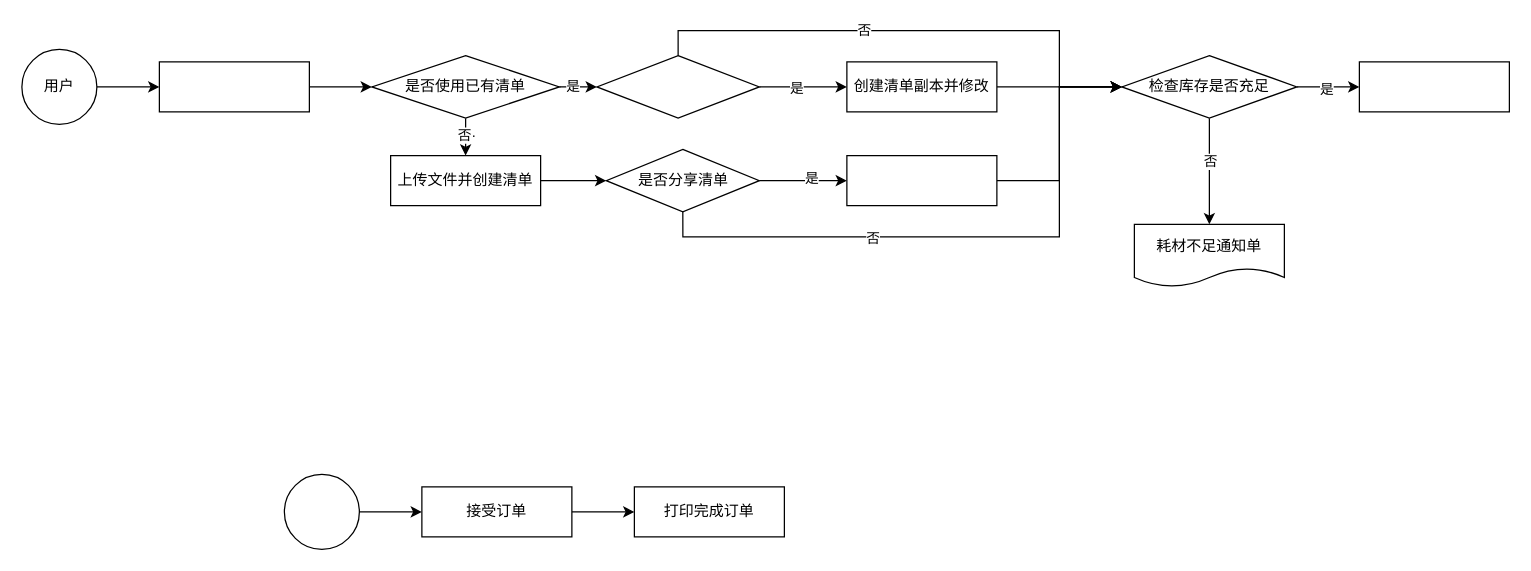
Some shapes in this 1531 by 571 pixel diagram are drawn without their labels. Here are the shapes that lost their labels. From the top down, the centre of each, then its label:
pixel 233 86: 查看分享清单列表
pixel 677 86: 是否修改需求
pixel 1433 86: 创建订单
pixel 921 180: 录入分享清单列表
pixel 321 511: 打印服务提供者
